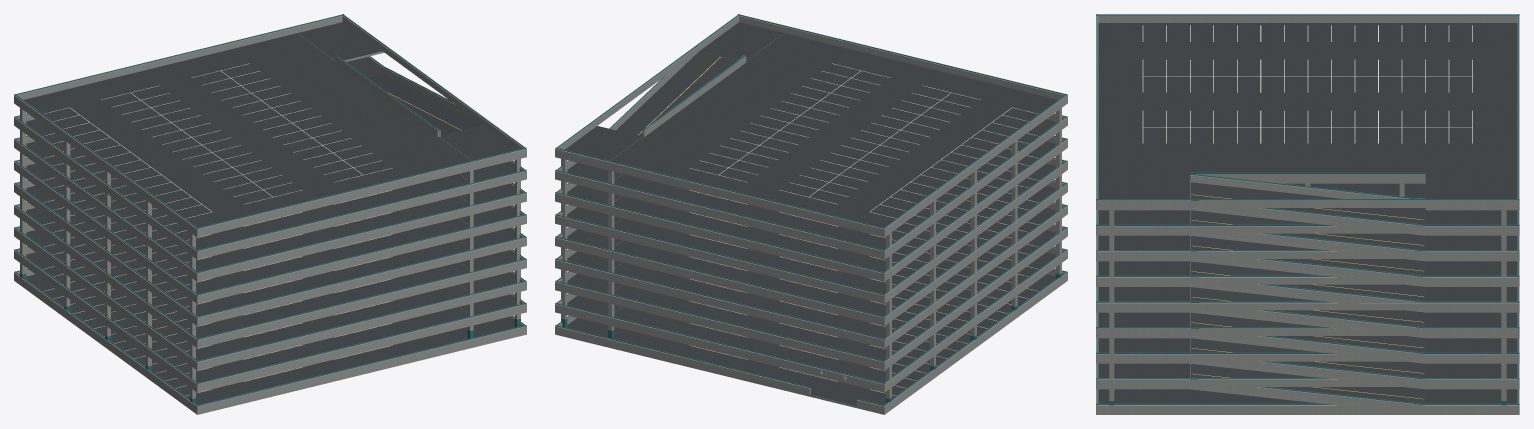
The model's file is large_09.glb.
3 renders of one model, left to right at view 1: azimuth 30°, elevation 25°; view 2: azimuth 150°, elevation 25°; view 3: azimuth 270°, elevation 25°, orthographic. The views are drawn at different scales.
Parts seen in each view (by area): view 1: large_09_Asphalt, large_09_Concrete, large_09_Teal, large_09_Paint; view 2: large_09_Asphalt, large_09_Concrete, large_09_Teal, large_09_Paint; view 3: large_09_Asphalt, large_09_Concrete, large_09_Teal, large_09_Paint, large_09_Yellow.
Part boxes in pixels (x1,y1,x2,y2): large_09_Asphalt: (24,22,516,404); large_09_Concrete: (14,15,526,414); large_09_Teal: (14,14,526,406); large_09_Paint: (43,63,392,395); large_09_Asphalt: (565,22,1057,405); large_09_Concrete: (555,15,1067,414); large_09_Teal: (555,14,1067,406); large_09_Paint: (689,63,1038,395); large_09_Asphalt: (1098,23,1517,403); large_09_Concrete: (1096,15,1519,414); large_09_Teal: (1096,14,1519,405); large_09_Paint: (1142,25,1472,143); large_09_Yellow: (1191,194,1423,399).
Size of the model in its own units: 56 by 30.28 by 54.02.
Materials: 6 (2 with a texture image).
